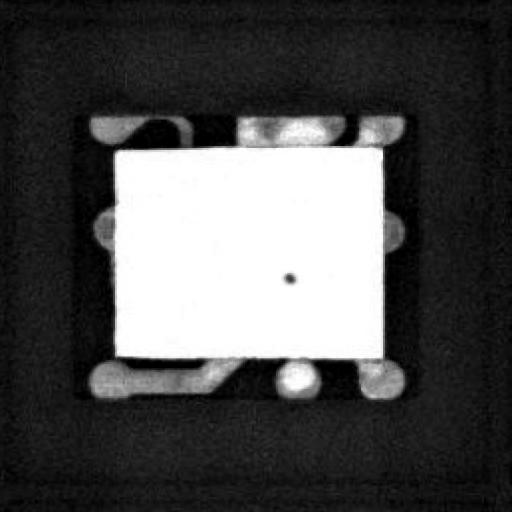DIE_INK: (264, 278, 286, 298)
